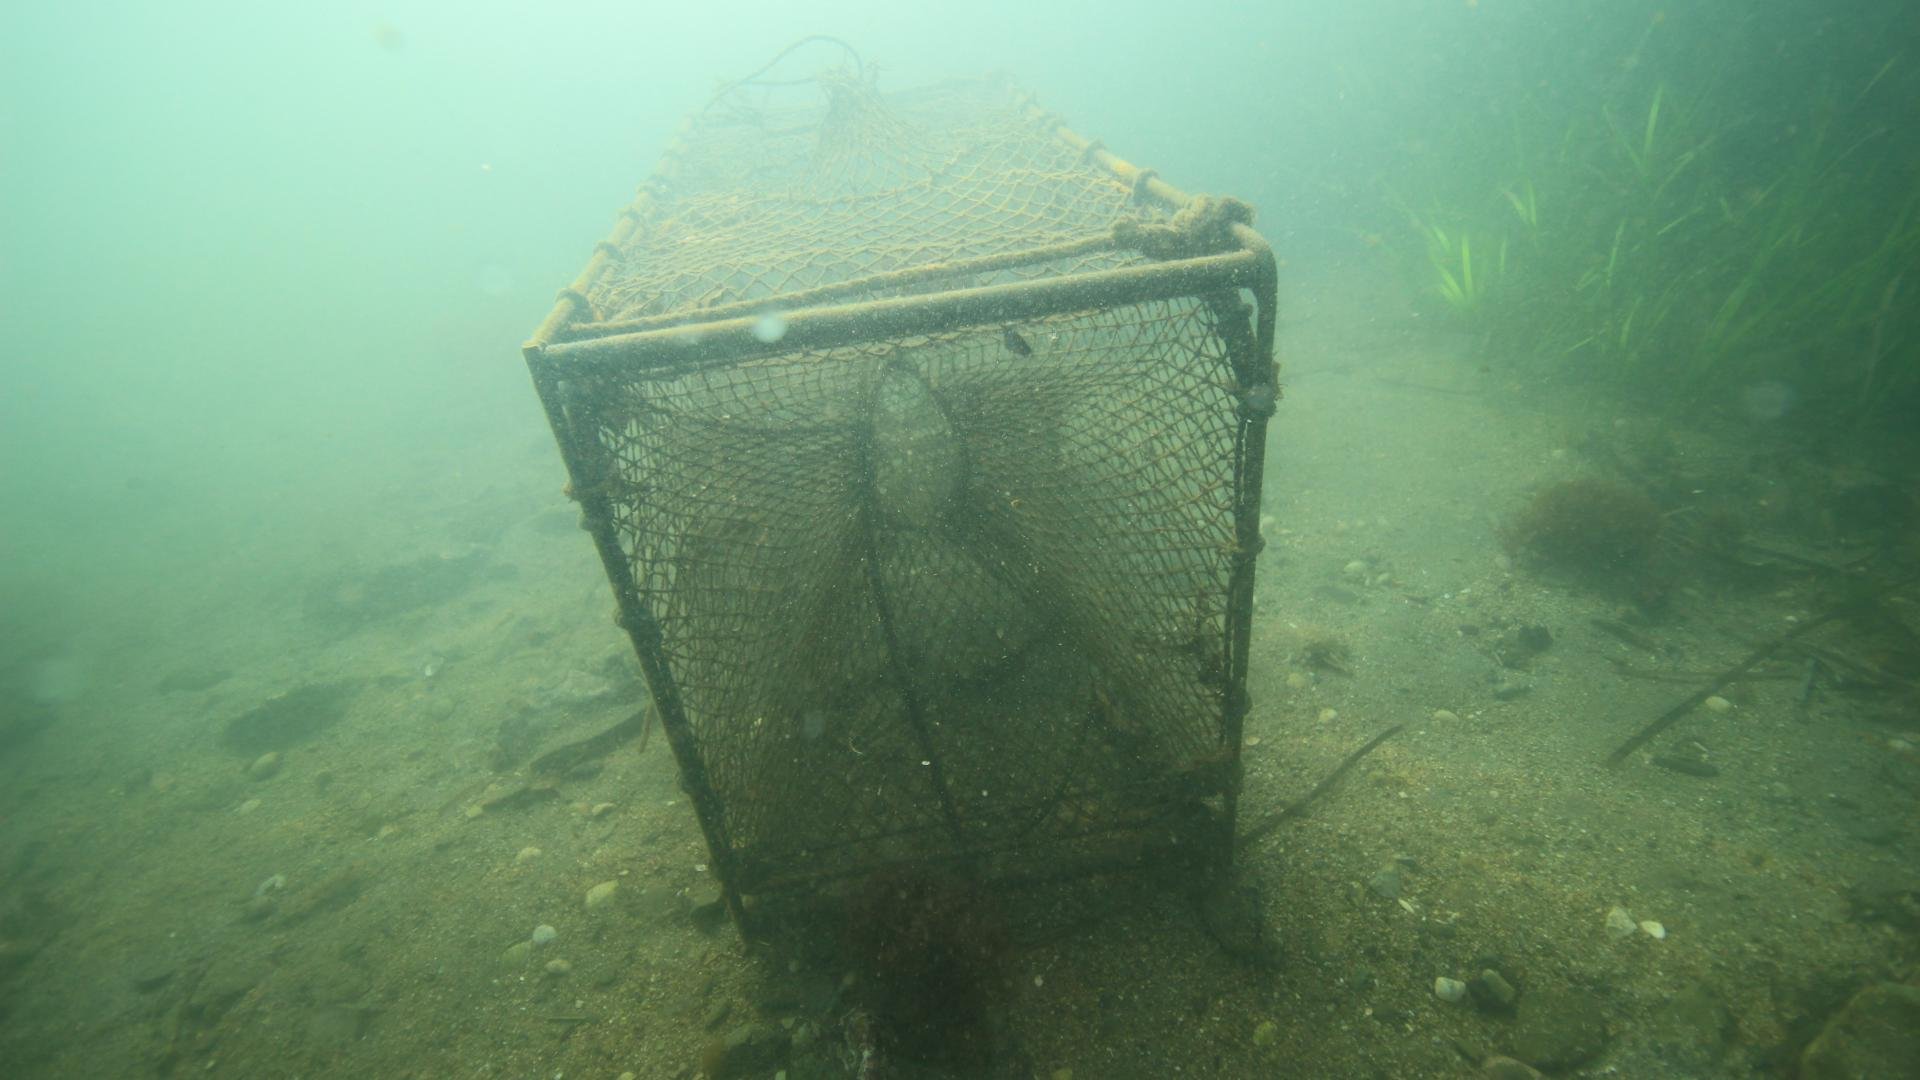rectangular fish trap: (520, 55, 1288, 957)
